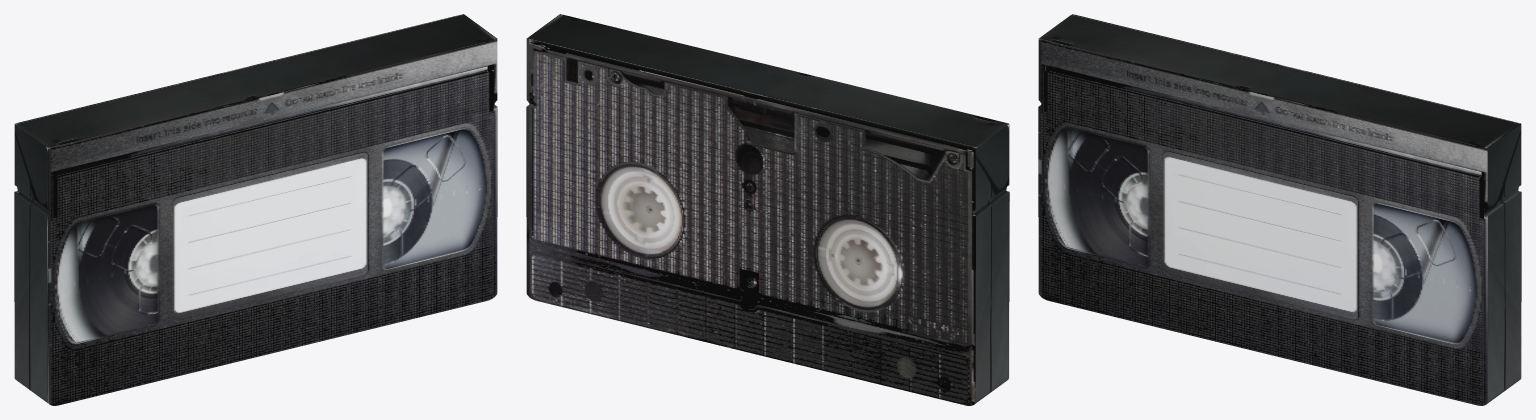
The model's file is vhs.glb.
3 views of the same model, side by side, from view 1: azimuth 30°, elevation 25°; view 2: azimuth 150°, elevation 25°; view 3: azimuth 330°, elevation 25° (orthographic).
Visible parts, largest first — view 1: vhs; view 2: vhs; view 3: vhs.
Boxes of the visible parts, <box> form: vhs: <box>14,14,497,405</box>; vhs: <box>526,14,1009,405</box>; vhs: <box>1038,14,1521,405</box>.
Bounding box in the file's own units: 8.95 × 4.94 × 1.16.
Materials: 1 (1 with a texture image).
